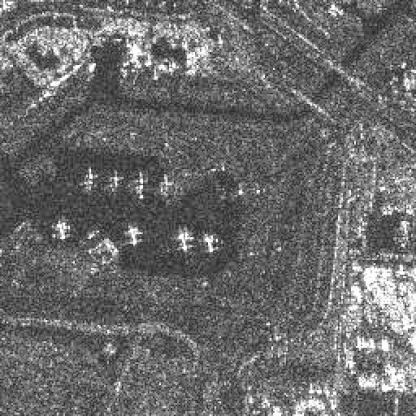airplane: (47, 215, 75, 242), (152, 169, 176, 200), (76, 166, 100, 193), (130, 167, 148, 202), (198, 228, 221, 255), (174, 228, 195, 255), (106, 169, 127, 195), (121, 224, 144, 245)
